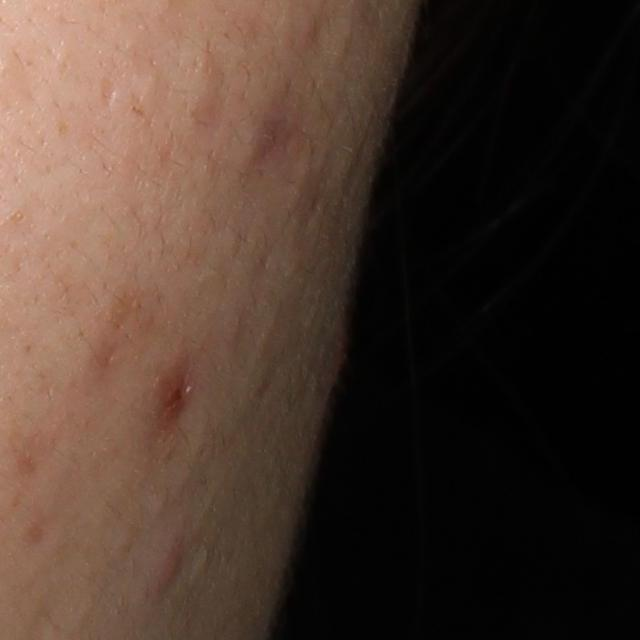atrophic_scar: (97, 74, 115, 107)
papule: (148, 544, 184, 598)
